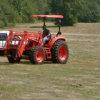Tractor: (4, 5, 78, 70)
